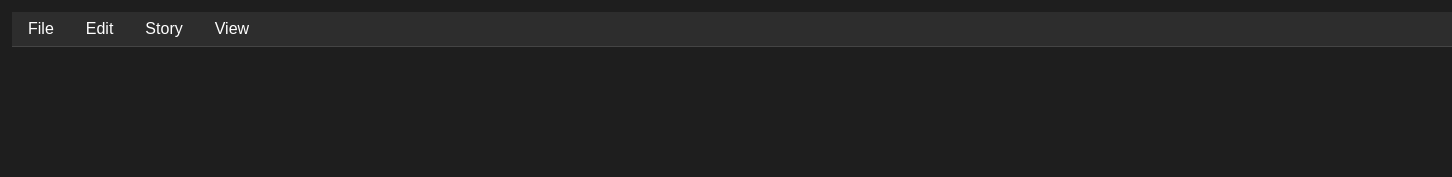
Test case: Feature: Menu Bar Component › Scenario: Keyboard navigation › Given Story menu item is focused, When Escape is pressed, Then menu should close
Click the button "Story" at point(164, 29), box [129,12,199,46]
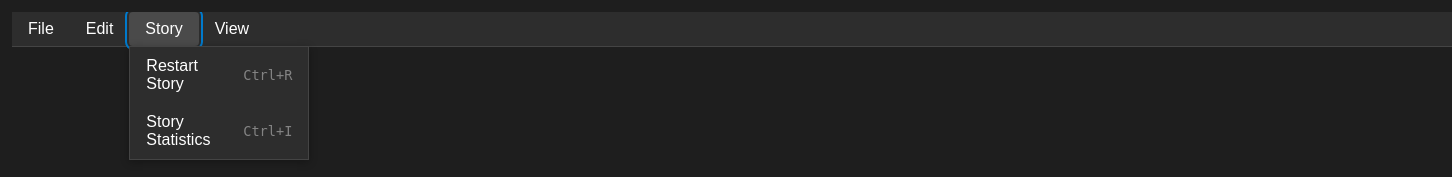
Press Escape
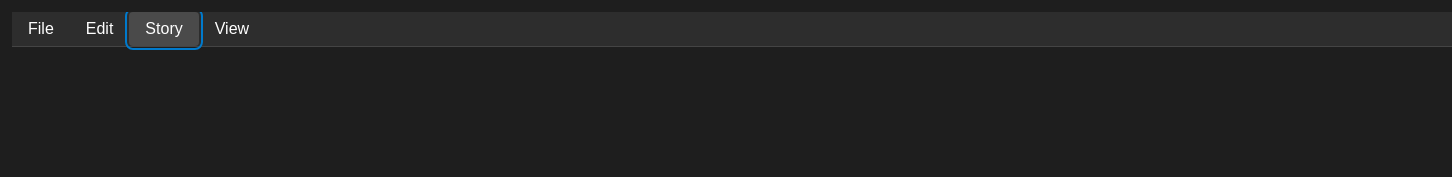
Now the menu item "Restart Story" is gone
